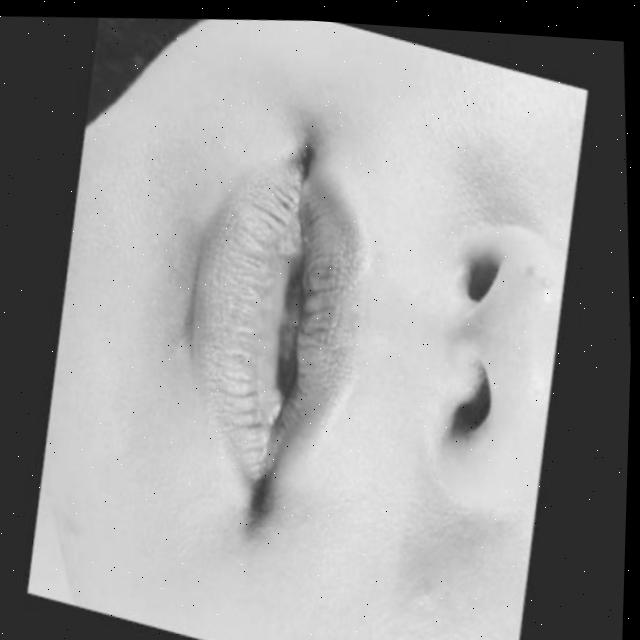Acne: (414, 509, 494, 610)
